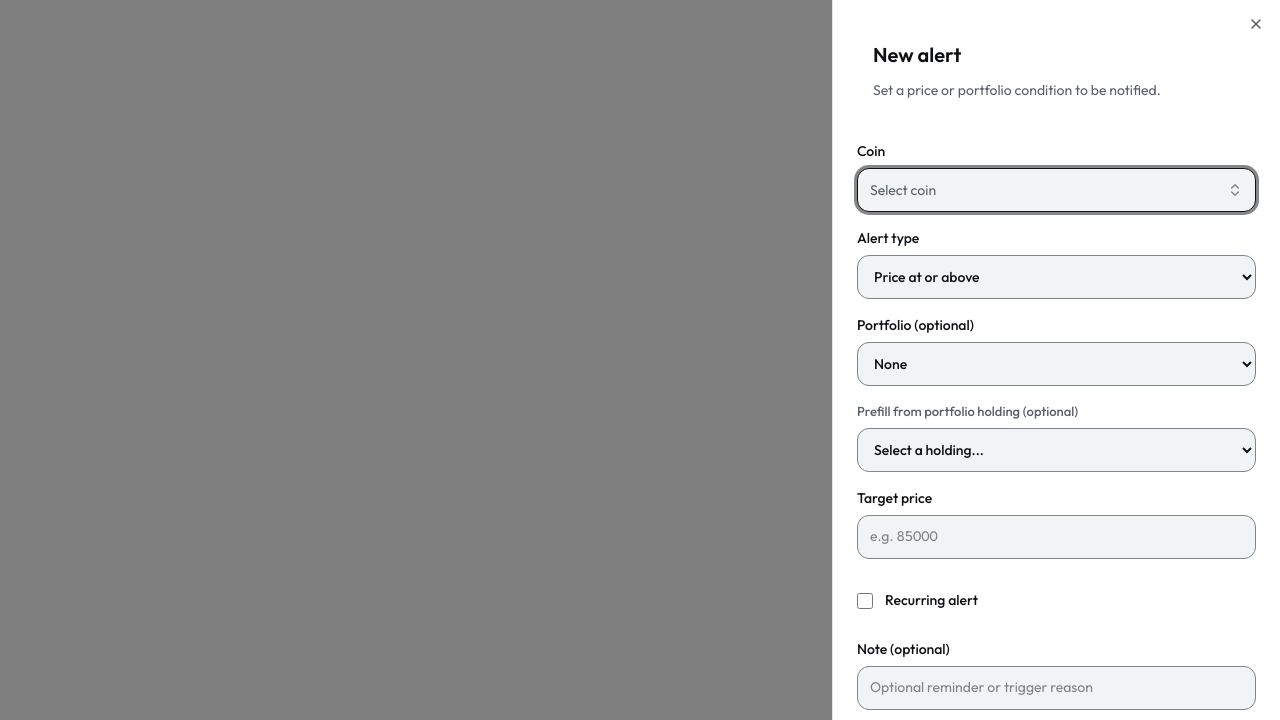
AlertSheet › prefills coin from portfolio holdings dropdown
Select "Primary Portfolio" in the dropdown labelled "Portfolio (optional)" at (1056, 364), box [857,342,1256,386]
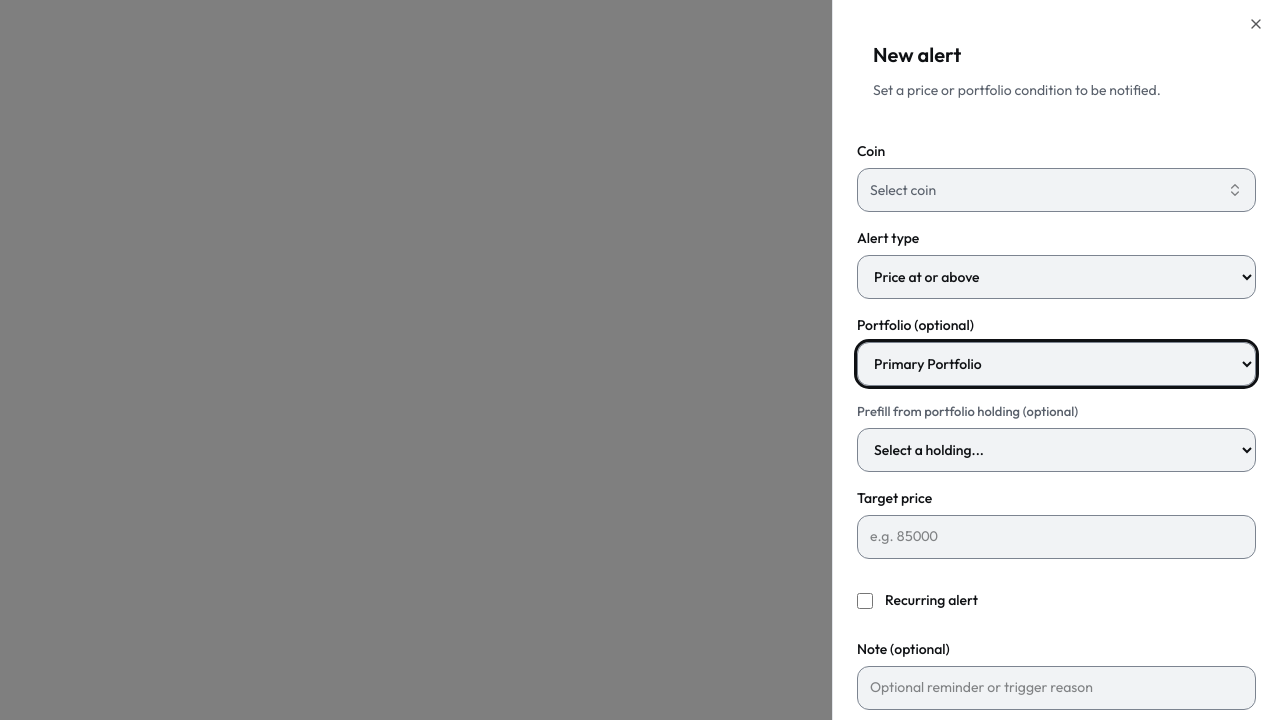
Select "ETH" in the dropdown labelled "Prefill from portfolio holding (optional)" at (1056, 450), box [857,428,1256,472]
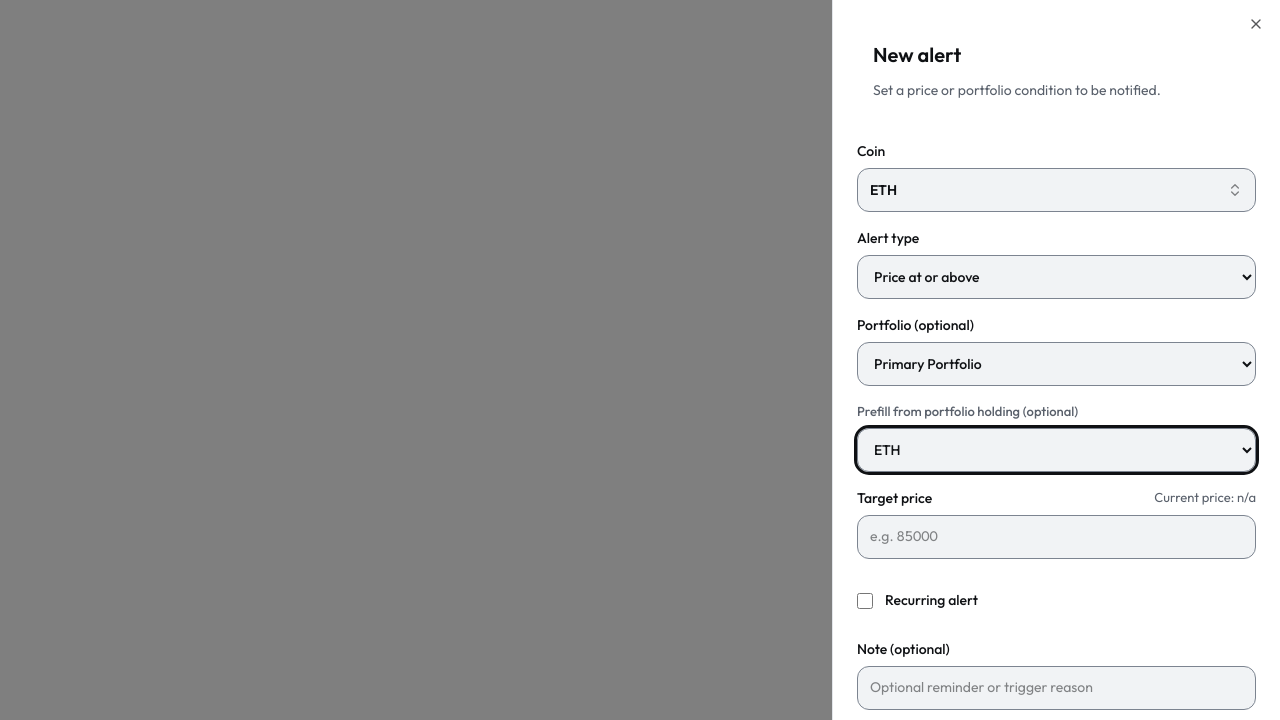
Expected: the dropdown named "Coin" reads "ETH", [857,168,1256,212]
